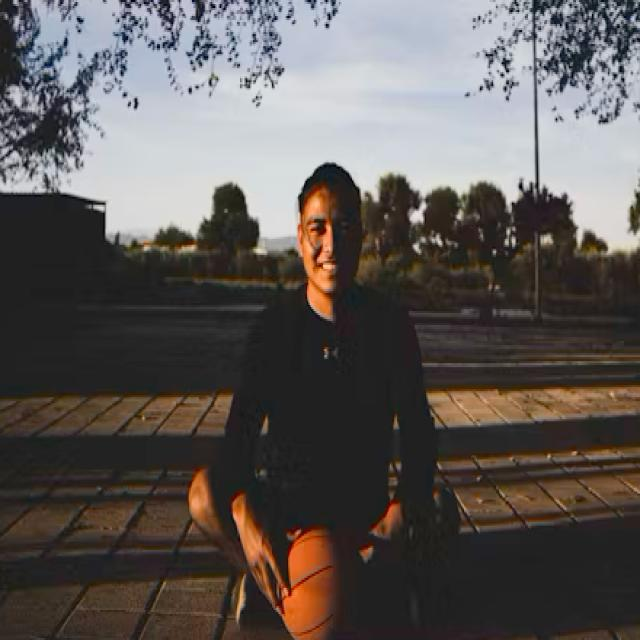Edited images: (189, 138, 458, 627)
